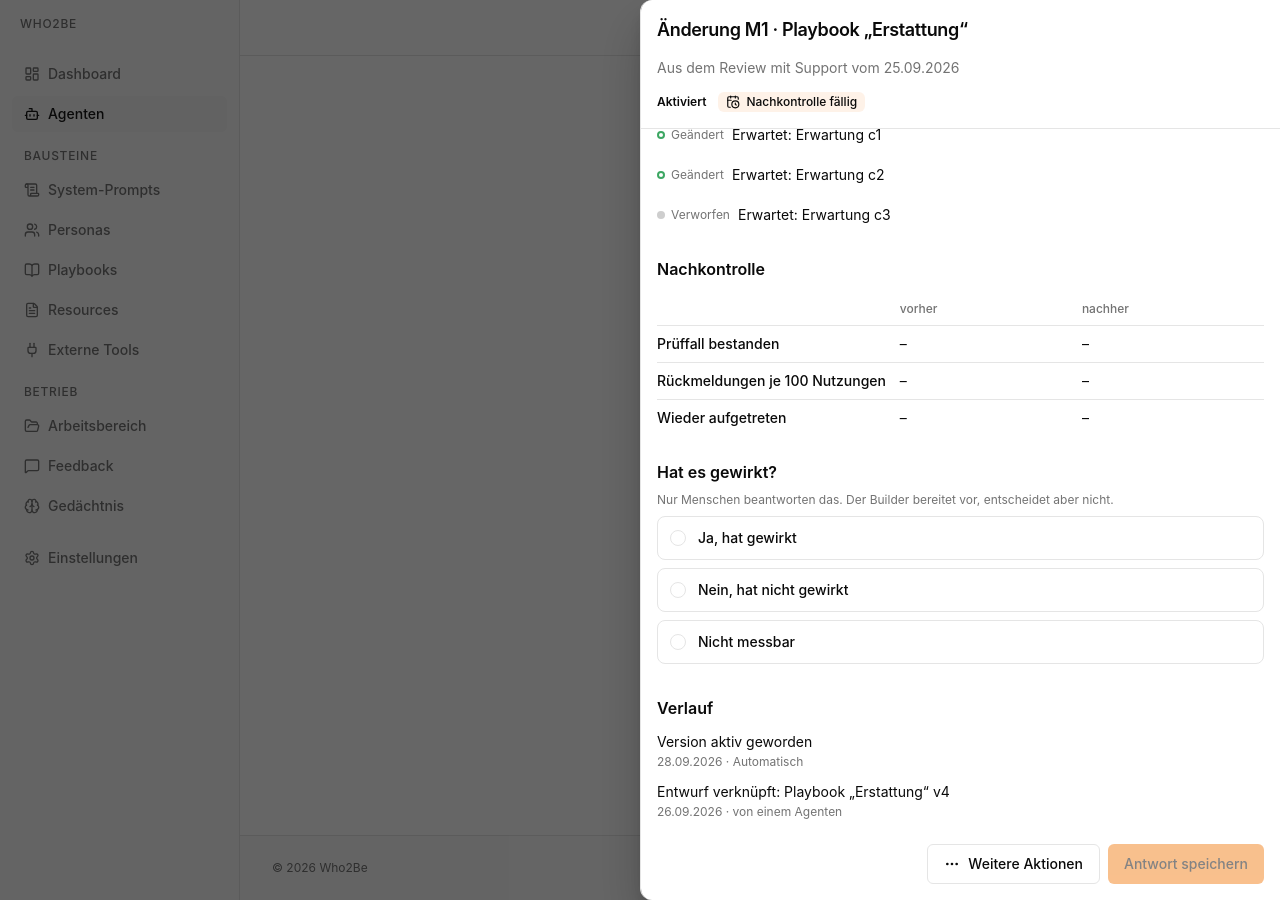
Scenario: ChangeActions: Zurückziehen › QE5 a: Satz zu den Rückmeldungen aus einem Key; destructive Knopf
The width and height of the screenshot is (1280, 900).
(page scrolled)
expect the element with test id "change-actions" is shown: met, box [927, 844, 1264, 884]
Press the mouse on the button with test id "change-more" at (1014,864), box [927, 844, 1100, 884]
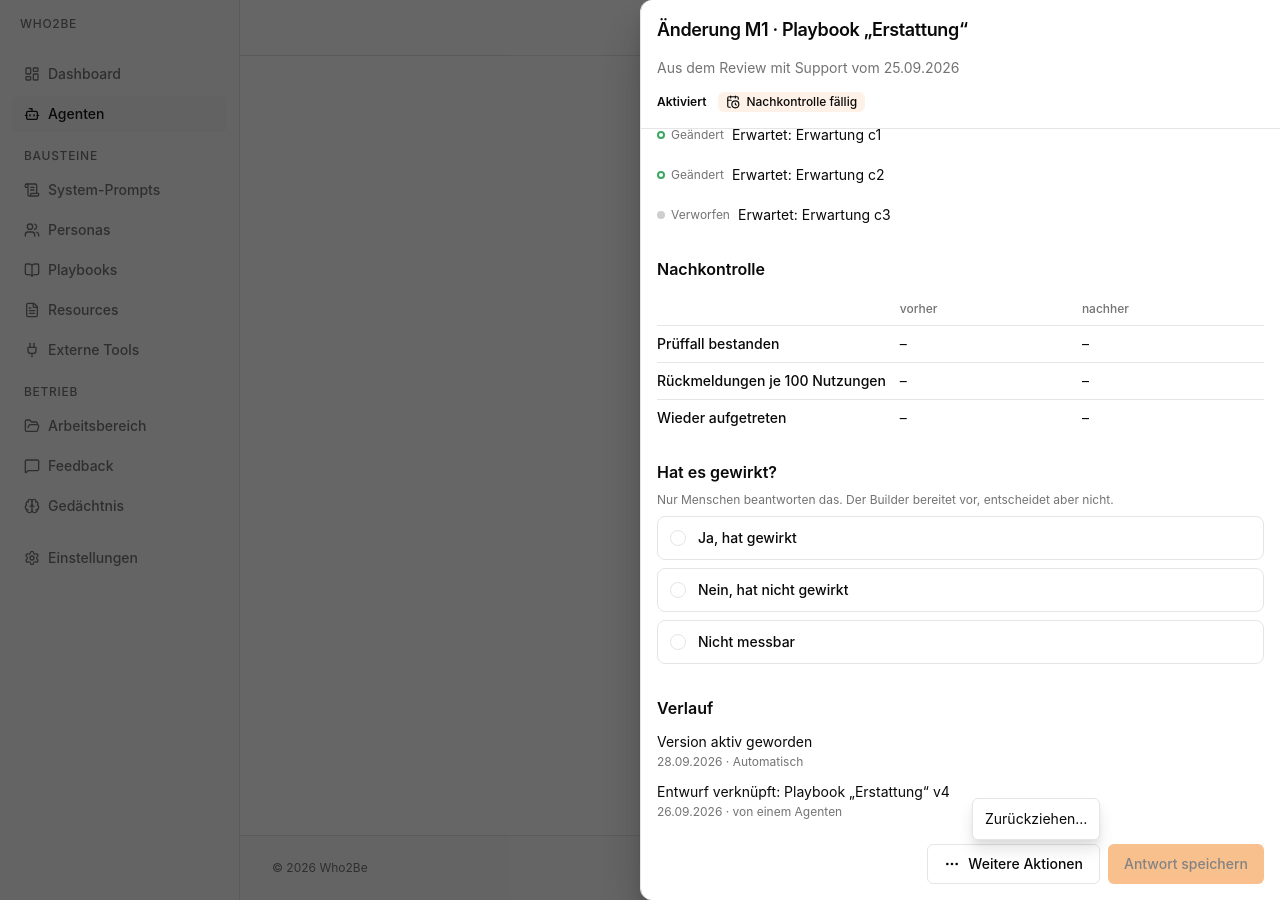
Click the menu item "Zurückziehen…". click: (1036,818)
box: [985, 810, 1087, 827]
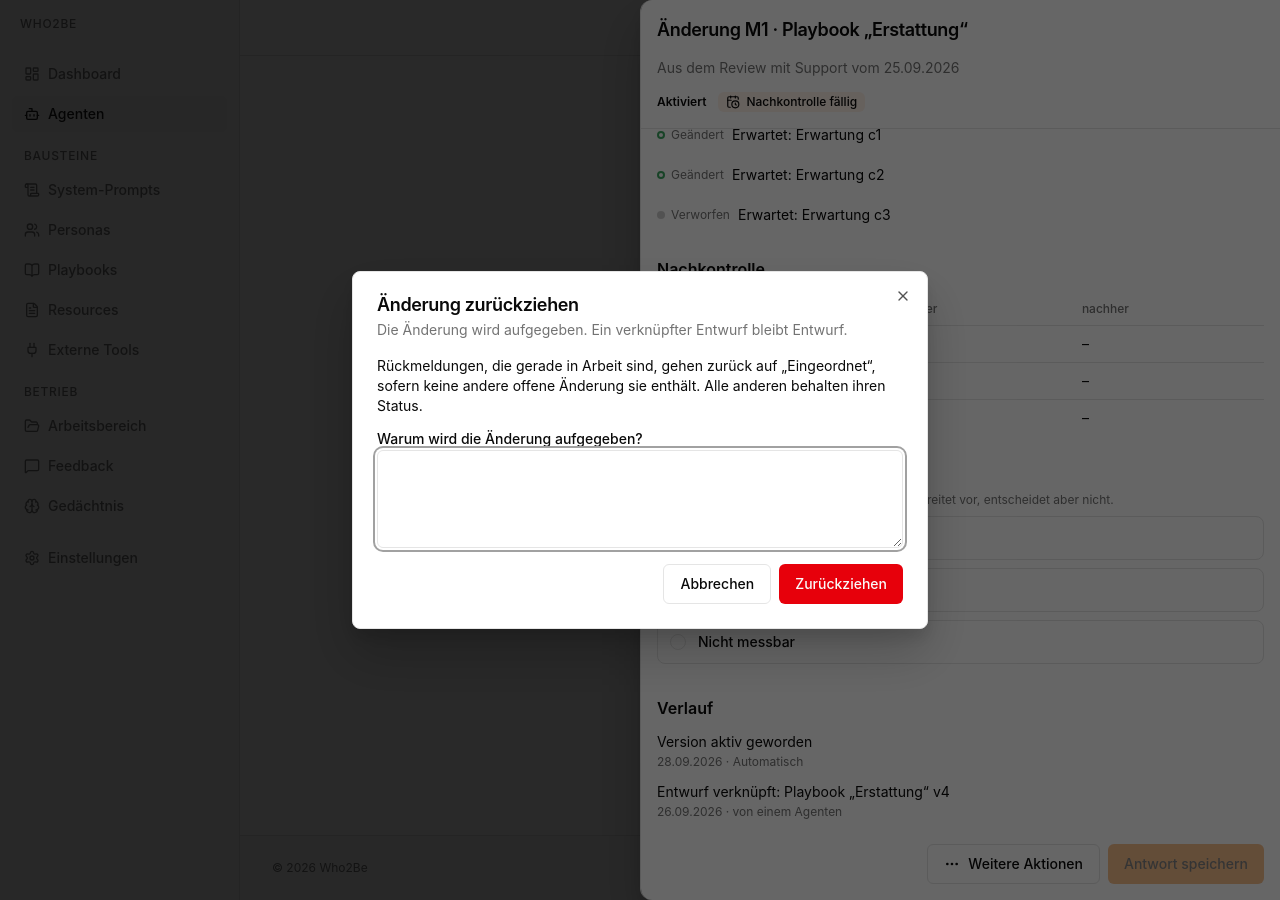
expect the dialog with test id "change-withdraw-dialog" shows "Die Änderung wird aufgegeben. Ein verknüpfter Entwurf bleibt Entwurf.": met, box [377, 321, 848, 338]
expect the text with test id "change-withdraw-cases" shows "Rückmeldungen, die gerade in Arbeit sind, gehen zurück auf „Eingeordnet“, sofern keine andere offene Änderung sie enthält.": met, box [377, 357, 886, 414]
